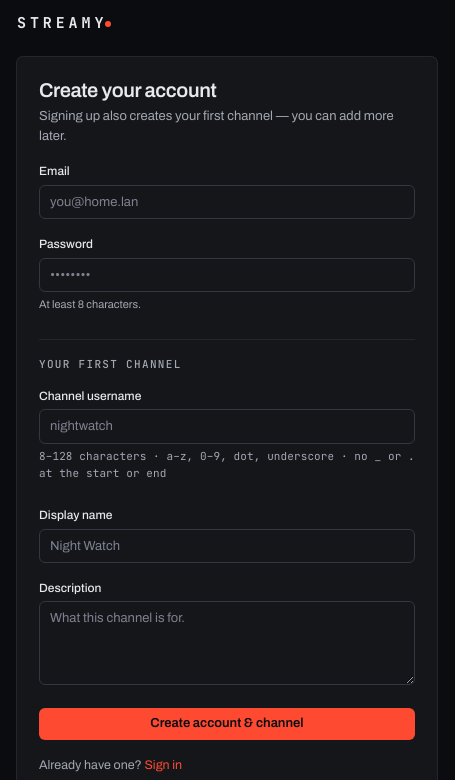
SignUp screen › rejects usernames the backend regex rejects (leading underscore)
Type "_badusername" into the field labelled "Channel username" at (227, 426), box x1=39 y1=409 x2=415 y2=444
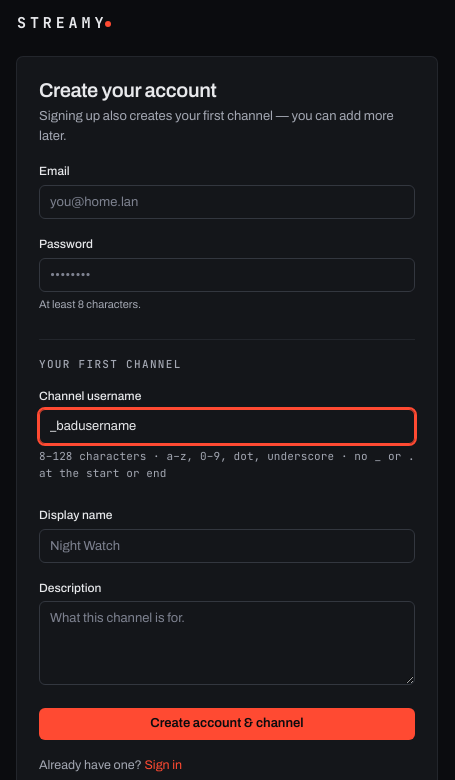
Click the button "Create account & channel" at (227, 724), box x1=39 y1=708 x2=415 y2=740
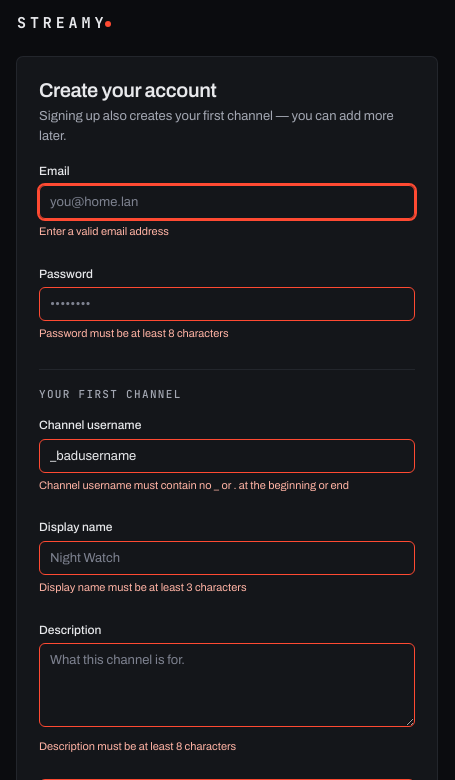
Result: the text "Channel username must contain no _ or . at the beginning or end" is shown at x1=39 y1=479 x2=349 y2=491
